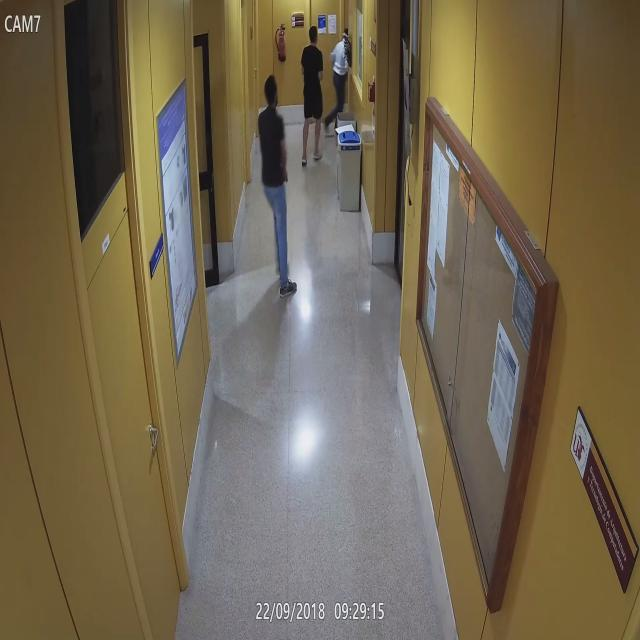Gun: (280, 166, 290, 184)
